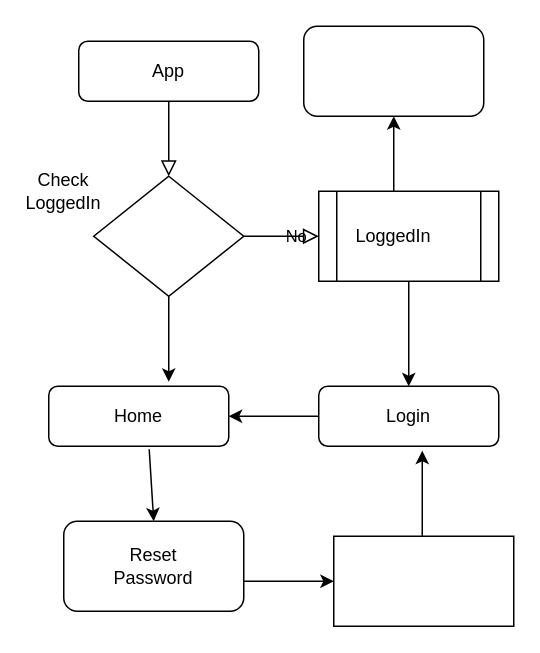
This 540x653 diagram has some shape labels left out. The centre of each missing label's shape, as x and y in pixels:
Data From Db: (x=393, y=70)
Is LoggedIn: (x=168, y=235)
password Update: (x=423, y=580)
